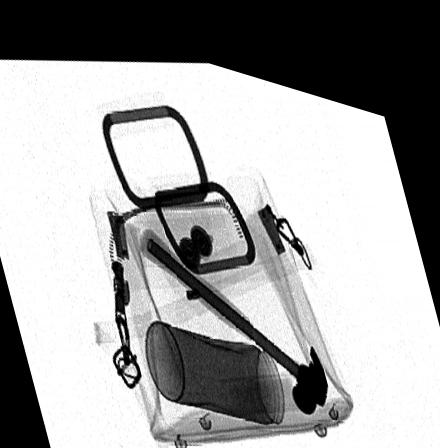Hammer: (140, 218, 329, 395)
